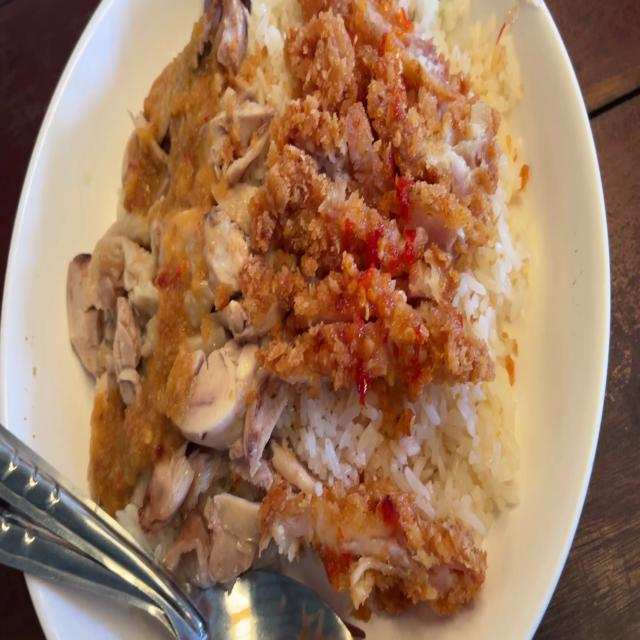chicken_rice: (61, 1, 268, 567)
